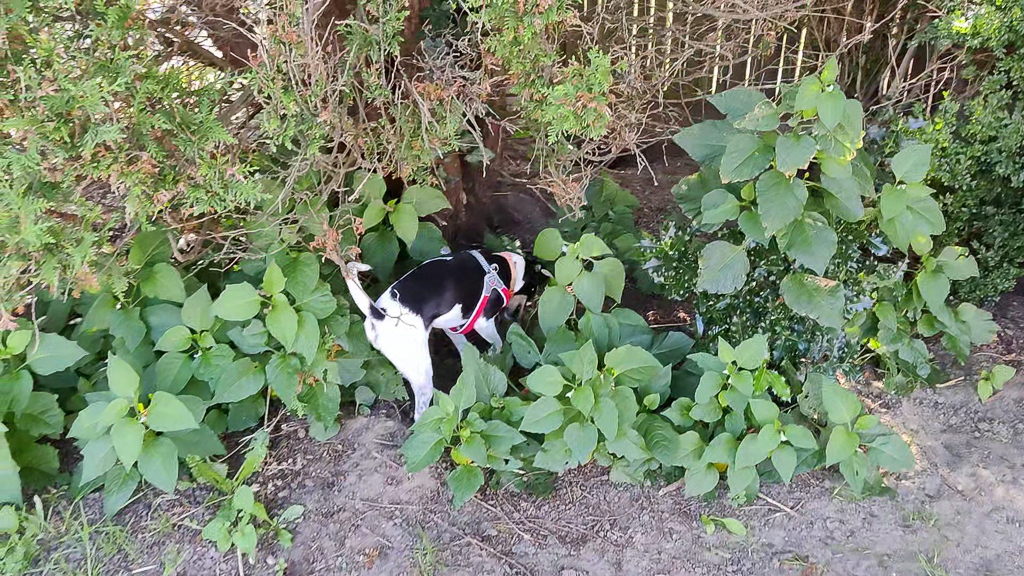Dog: (327, 229, 590, 450)
